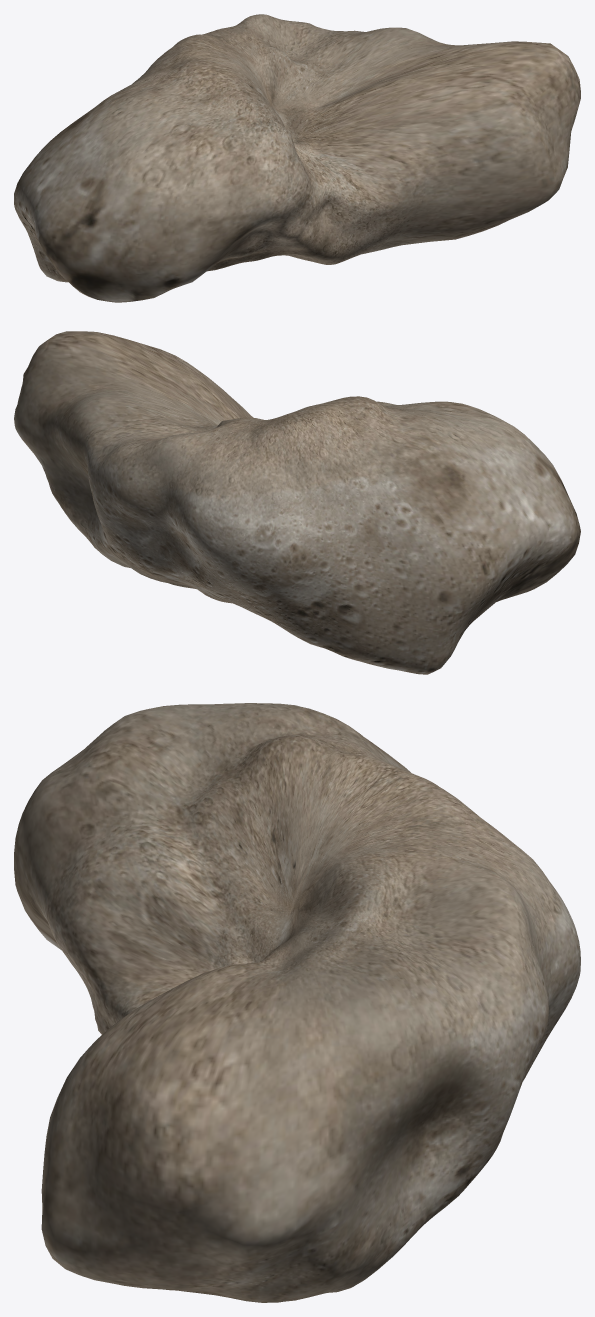
The model's file is ida.glb.
3 renders of one model, top to bottom at view 1: azimuth 30°, elevation 25°; view 2: azimuth 150°, elevation 25°; view 3: azimuth 270°, elevation 25°, orthographic. The views are drawn at different scales.
Parts seen in each view (by area): view 1: ida; view 2: ida; view 3: ida.
Boxes of the visible parts, x1,y1,x2,y2 form: ida: (14, 14, 580, 302); ida: (14, 331, 580, 674); ida: (14, 703, 580, 1302).
Bounding box in the file's own units: 57.85 × 22.63 × 30.04.
1 material, 1 textured.
